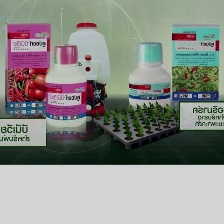carton: (2, 20, 54, 117), (170, 20, 221, 103)
insecticide: (43, 43, 88, 130), (126, 38, 173, 110)
